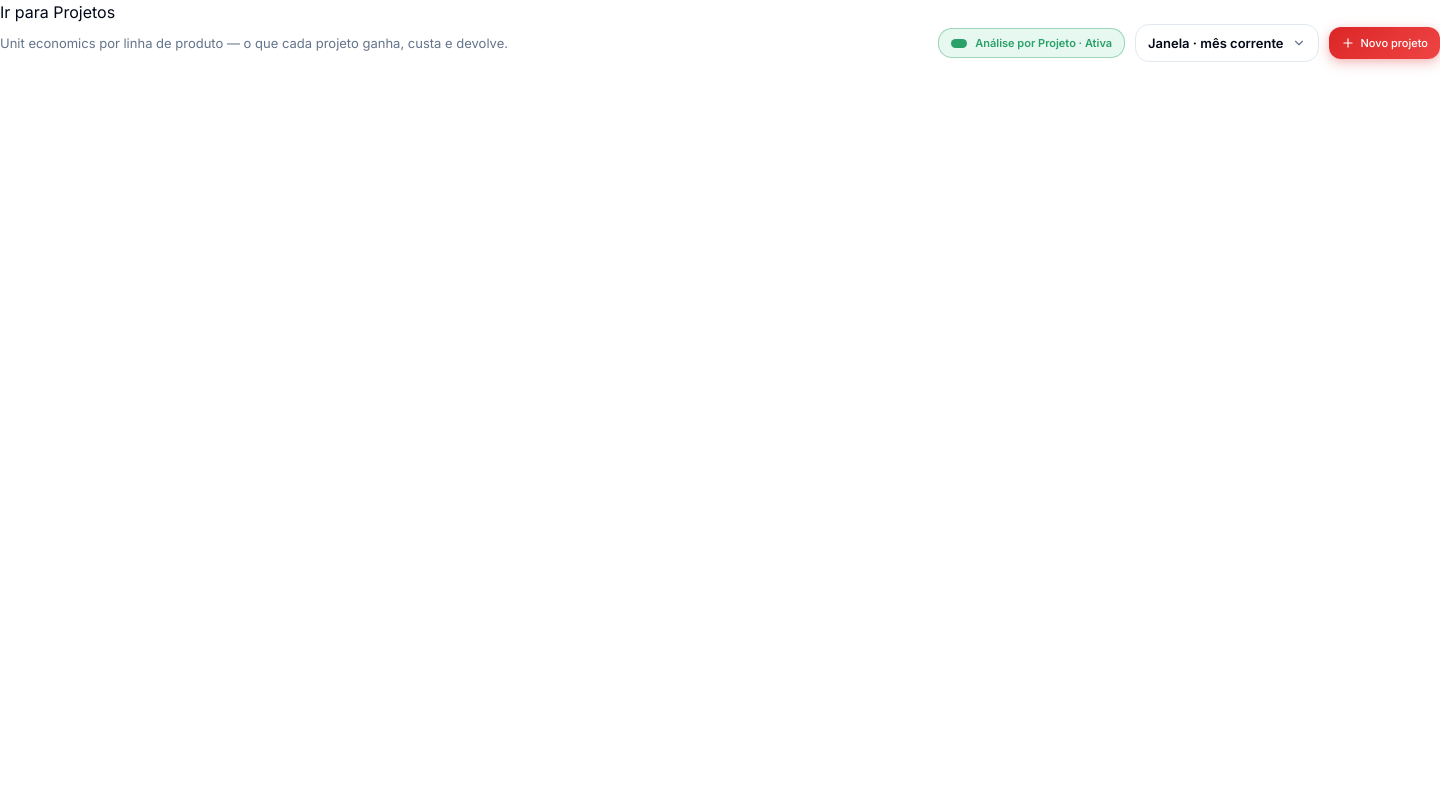
Financeiro › Projetos — fluxo opt-in completo (smoke) › botão "Novo projeto" cria via POST /financeiro/projetos e o projeto aparece na lista
Click the button "Novo projeto".
click(1384, 43)  # box [1328,27,1439,59]
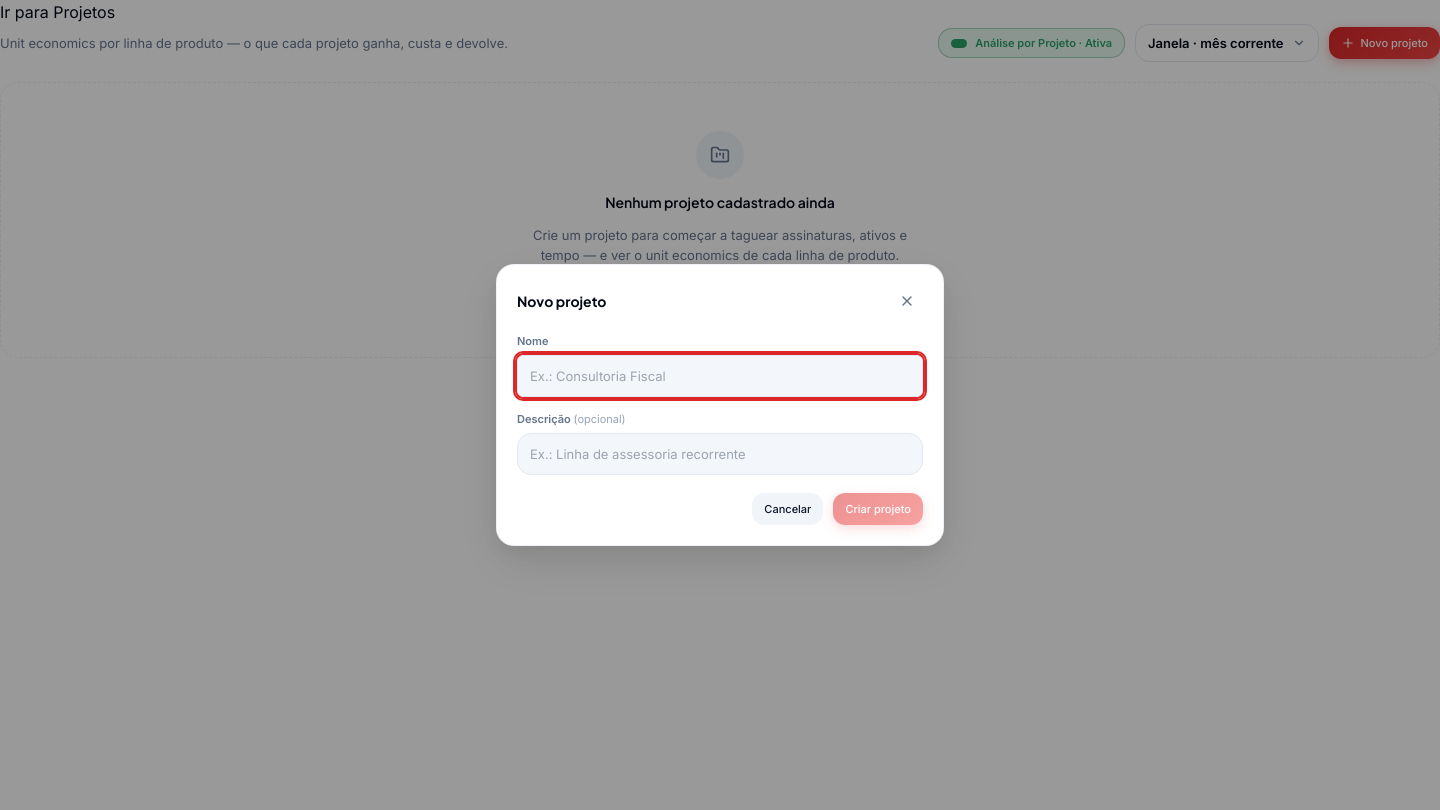
expect the field labelled "Nome" is shown: met
Type "Consultoria Nova" into the field labelled "Nome".
click(720, 376); type("Consultoria Nova")  # box [517,355,923,397]
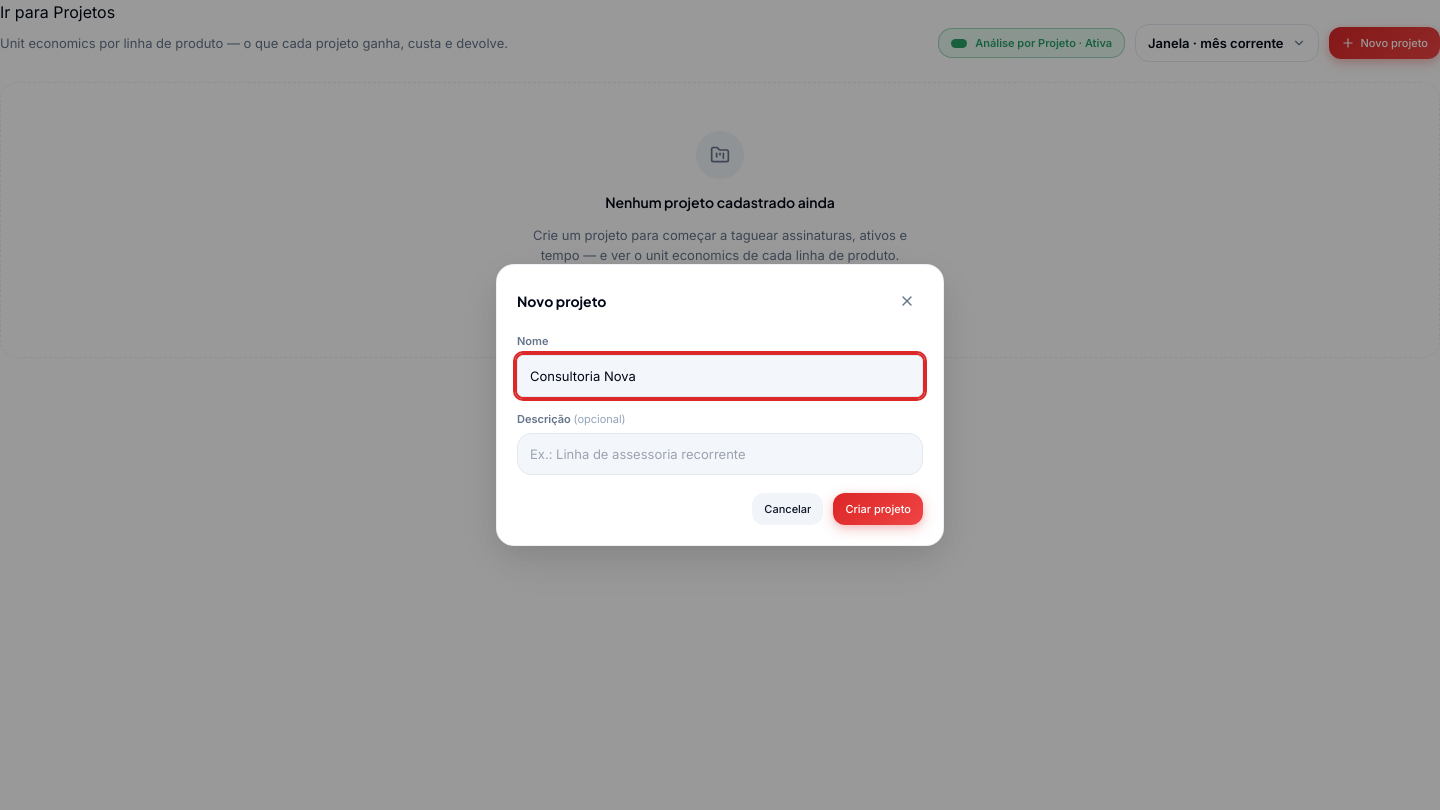
Click the button "Criar projeto".
click(878, 509)  # box [833,493,923,525]
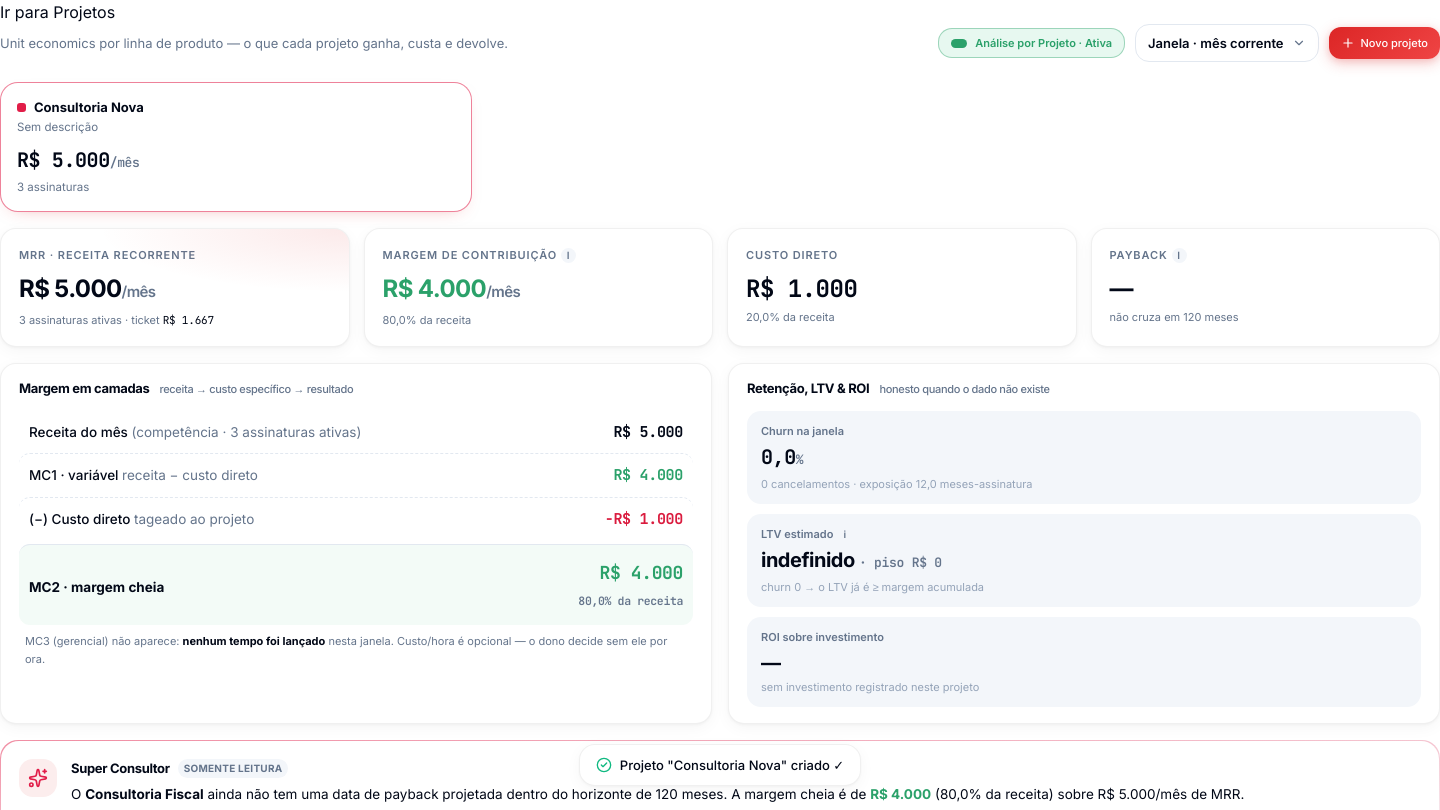
expect the text "Consultoria Nova" is shown: met, box [17,97,144,117]
